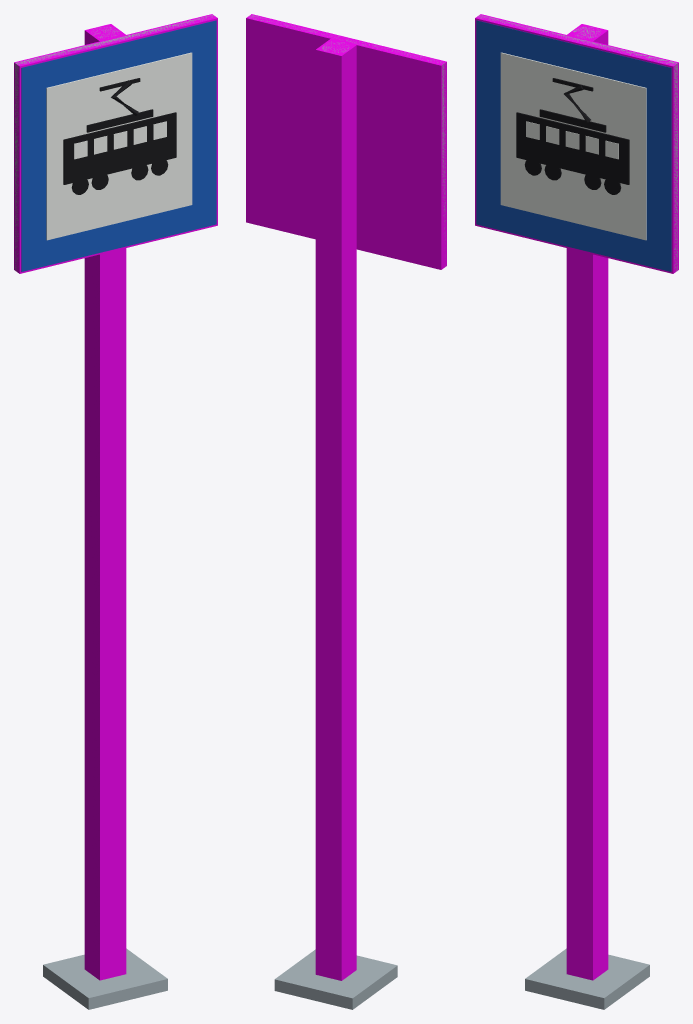
Rendered from PT_Sign_5_17_TramStop.fbx.
The picture shows the model from 3 angles, left to right: view 1: azimuth 30°, elevation 25°; view 2: azimuth 150°, elevation 25°; view 3: azimuth 330°, elevation 25°; orthographic projection.
Parts seen in each view (by area): view 1: COL_Post, Face_Blue, Face_White, Pictogram, Post, COL_Plate, Plate_Back, Pictogram_Windows; view 2: COL_Post, COL_Plate, Post, Plate_Back; view 3: COL_Post, Face_Blue, Face_White, Pictogram, Post, COL_Plate, Plate_Back, Pictogram_Windows.
Part boxes in pixels (<box>): COL_Post: <box>84,24,126,980</box>; Face_Blue: <box>21,20,216,271</box>; Face_White: <box>46,52,192,240</box>; Pictogram: <box>63,78,176,194</box>; Post: <box>43,27,167,1009</box>; COL_Plate: <box>14,14,217,273</box>; Plate_Back: <box>15,15,216,271</box>; Pictogram_Windows: <box>74,121,166,159</box>; COL_Post: <box>315,39,356,980</box>; COL_Plate: <box>246,14,446,269</box>; Post: <box>274,41,397,1009</box>; Plate_Back: <box>249,15,445,265</box>; COL_Post: <box>566,24,608,980</box>; Face_Blue: <box>476,20,671,271</box>; Face_White: <box>500,52,646,240</box>; Pictogram: <box>516,78,629,194</box>; Post: <box>525,27,649,1009</box>; COL_Plate: <box>475,14,678,273</box>; Plate_Back: <box>478,15,677,271</box>; Pictogram_Windows: <box>526,121,618,159</box>.
Size of the model in its own units: 0.6 by 2.75 by 0.24.
